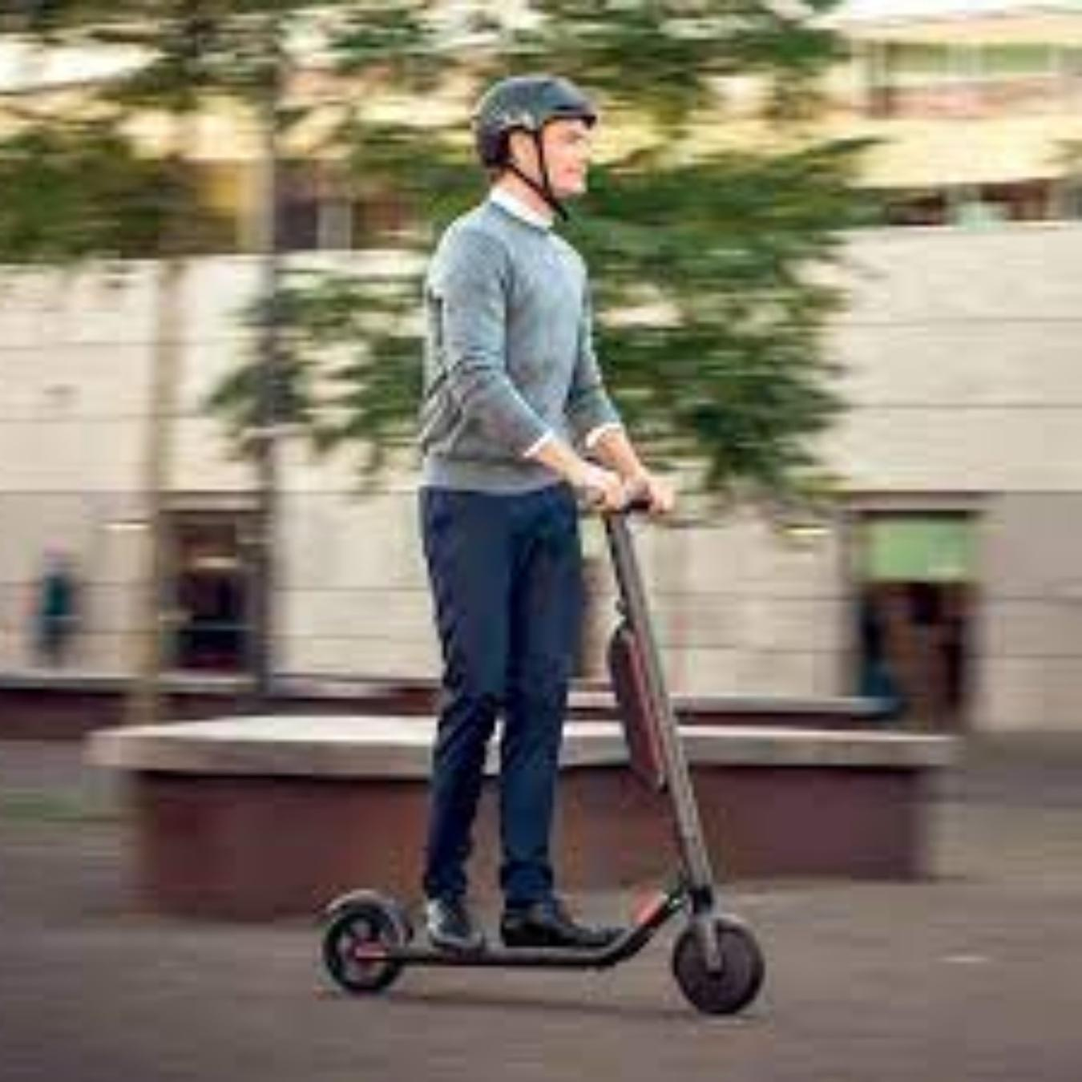helmet: (468, 73, 604, 226)
human: (413, 67, 664, 947)
kickboard: (304, 879, 762, 1019)
